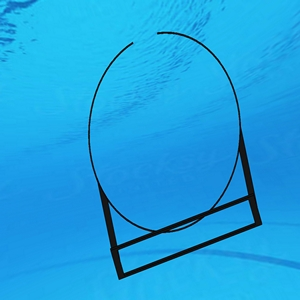circle: (86, 30, 263, 280)
